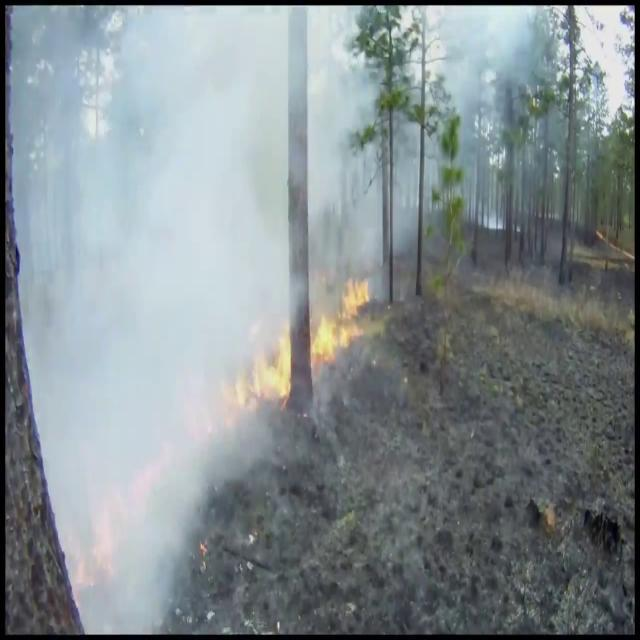Fire: (311, 266, 374, 372), (234, 316, 294, 414)
Smoke: (33, 6, 369, 620)
